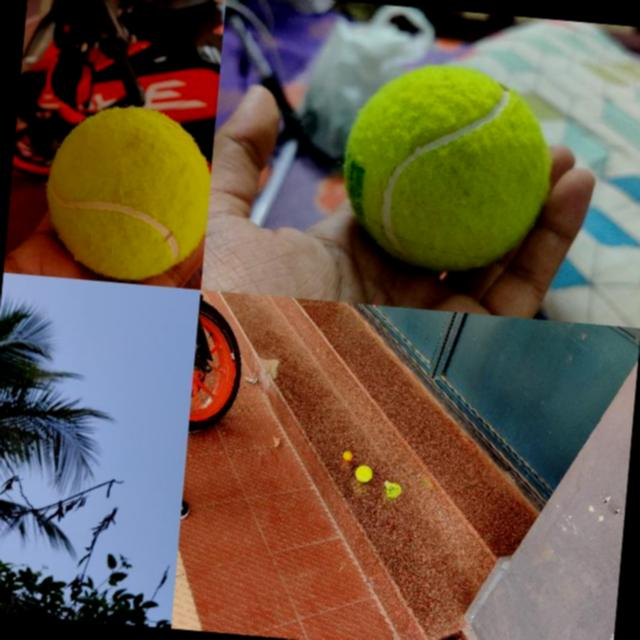Tennis Ball: (333, 57, 560, 280), (38, 100, 214, 286), (354, 464, 372, 481)
